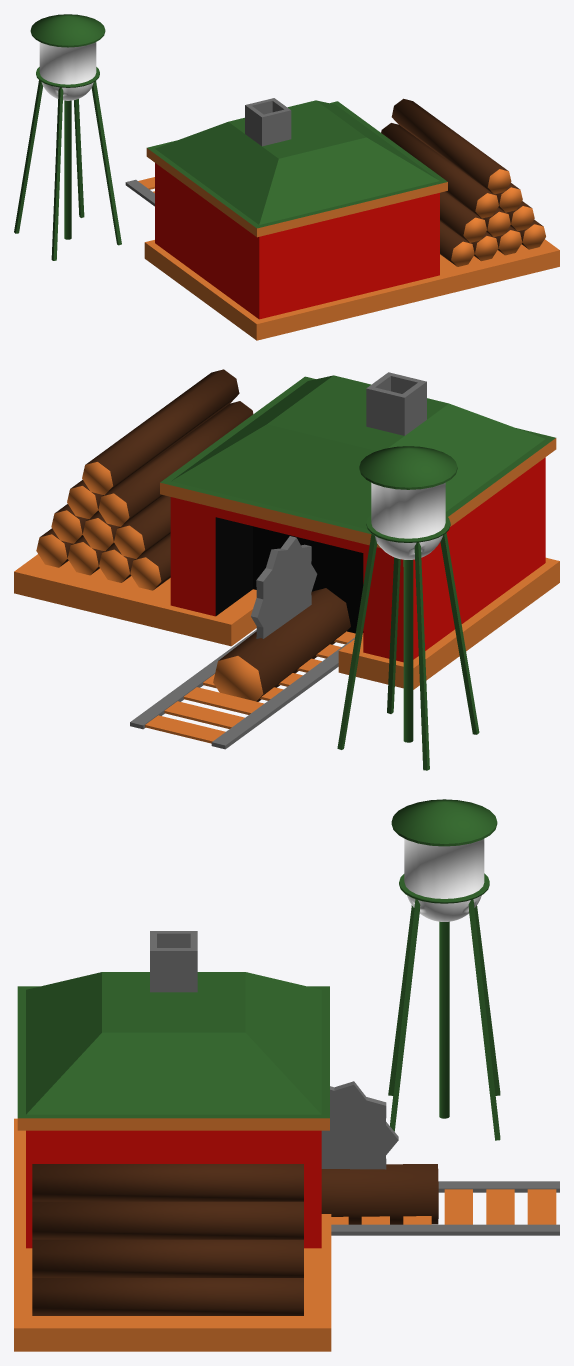
The model's file is sawmill.fbx.
The picture shows the model from 3 angles, top to bottom: view 1: azimuth 30°, elevation 25°; view 2: azimuth 150°, elevation 25°; view 3: azimuth 270°, elevation 25°; orthographic projection. The views are drawn at different scales.
Parts seen in each view (by area): view 1: house.002, logs, canister of water, rail; view 2: house.002, logs, canister of water, rail, saw; view 3: house.002, logs, canister of water, rail, saw.
Part boxes in pixels (box(x1,y1,x2,y2)): house.002: box(144, 98, 559, 340); logs: box(381, 98, 545, 266); canister of water: box(14, 14, 121, 260); rail: box(125, 177, 154, 206); house.002: box(14, 372, 559, 689); logs: box(36, 369, 350, 701); canister of water: box(337, 446, 479, 770); rail: box(130, 630, 355, 749); saw: box(251, 536, 317, 638); house.002: box(14, 931, 331, 1351); logs: box(32, 1164, 438, 1315); canister of water: box(388, 799, 500, 1140); rail: box(331, 1181, 559, 1235); saw: box(321, 1081, 398, 1169).
Bounding box in the file's own units: 162 × 95.16 × 145.
